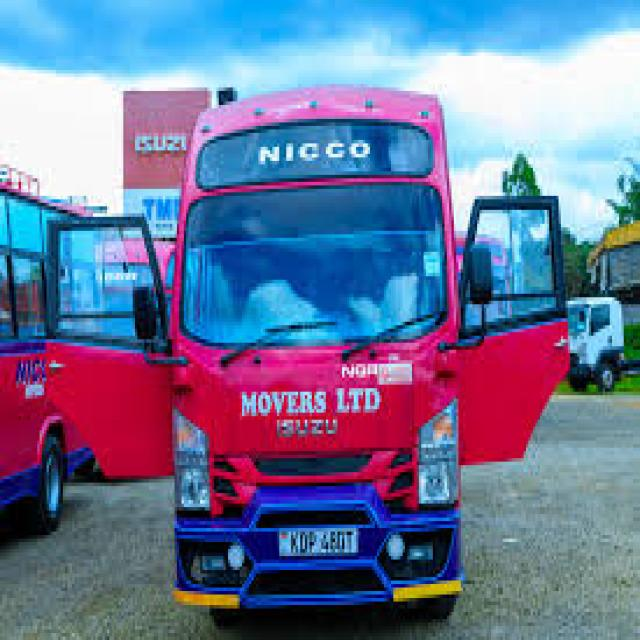bus: (22, 18, 604, 636)
